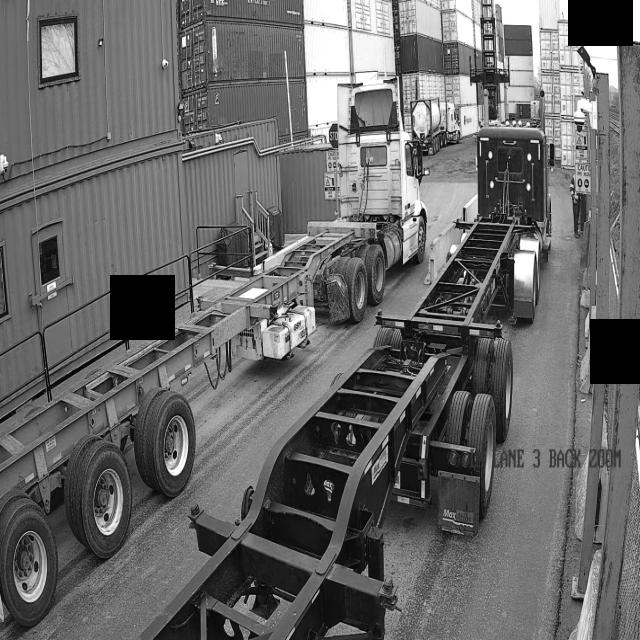truck_without_container: (0, 82, 429, 626), (139, 123, 553, 640)
